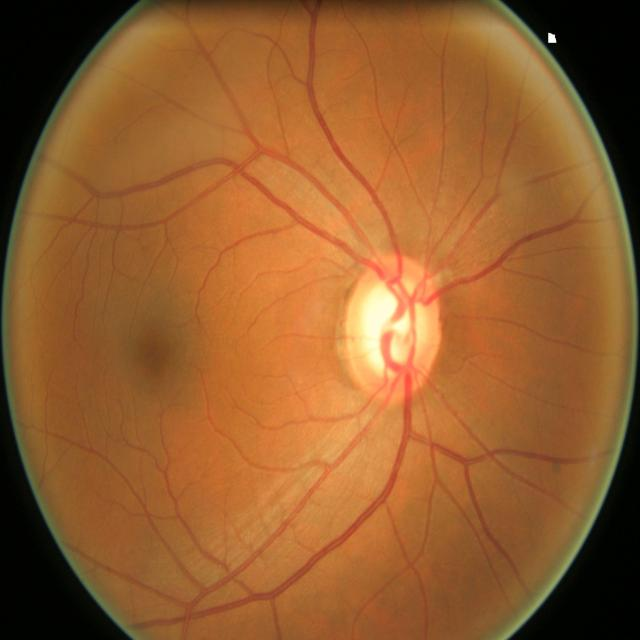OC: (360, 279, 426, 377)
OD: (347, 258, 440, 404)
